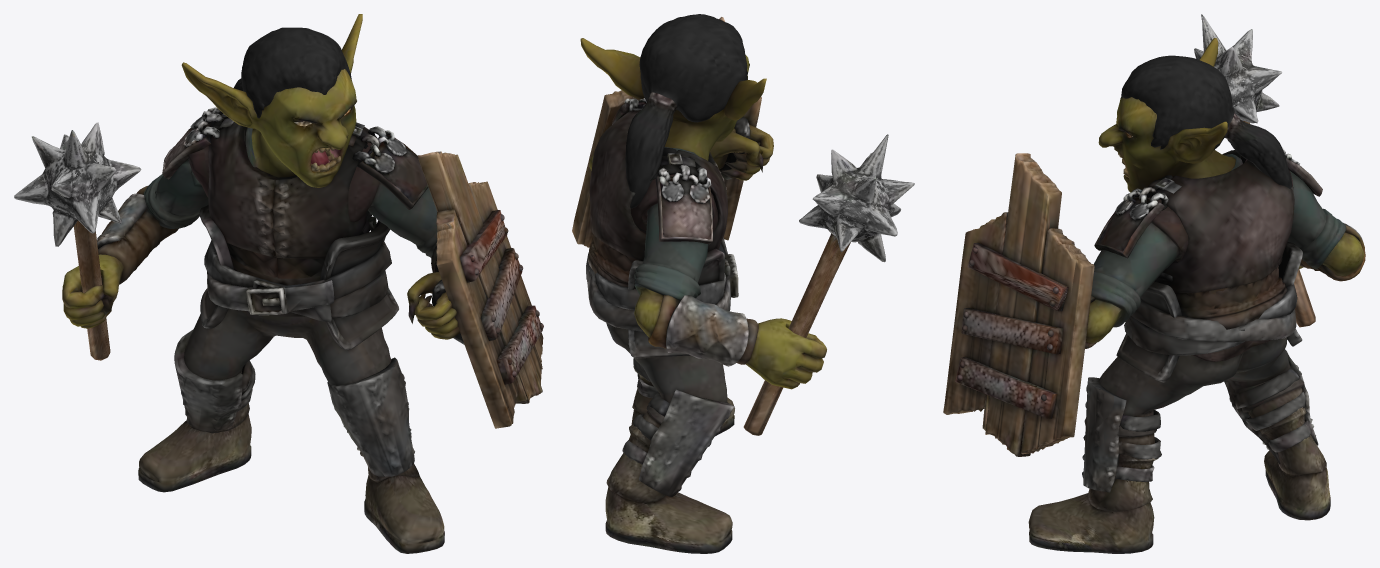
The model's file is MZ4250 - Goblin Warrior_melee_mace 2025.glb.
The picture shows the model from 3 angles, left to right: view 1: azimuth 30°, elevation 25°; view 2: azimuth 150°, elevation 25°; view 3: azimuth 270°, elevation 25°; orthographic projection. The views are drawn at different scales.
Parts seen in each view (by area): view 1: Sphere.002; view 2: Sphere.002; view 3: Sphere.002.
Boxes of the visible parts, left/top/right/bottom form: Sphere.002: left=14, top=14, right=543, bottom=553; Sphere.002: left=572, top=14, right=914, bottom=553; Sphere.002: left=943, top=14, right=1365, bottom=553.
Size of the model in its own units: 70.97 by 74.59 by 63.2.
Materials: 5 (5 with a texture image).
